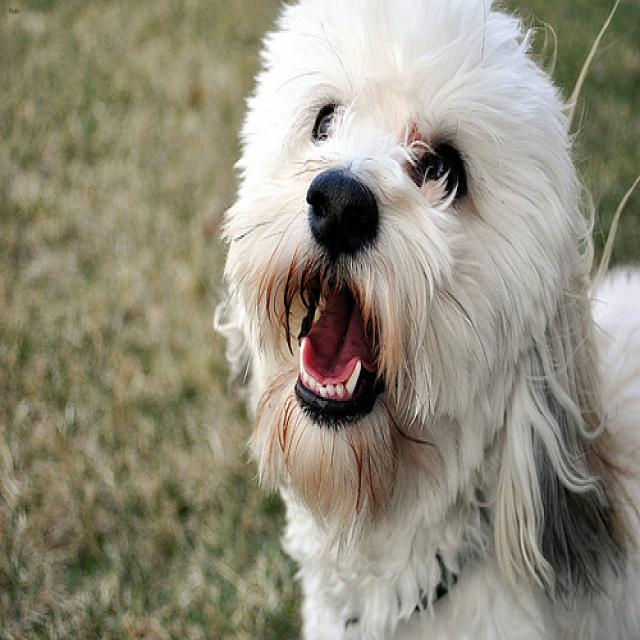dog-havanese: (206, 2, 637, 636)
